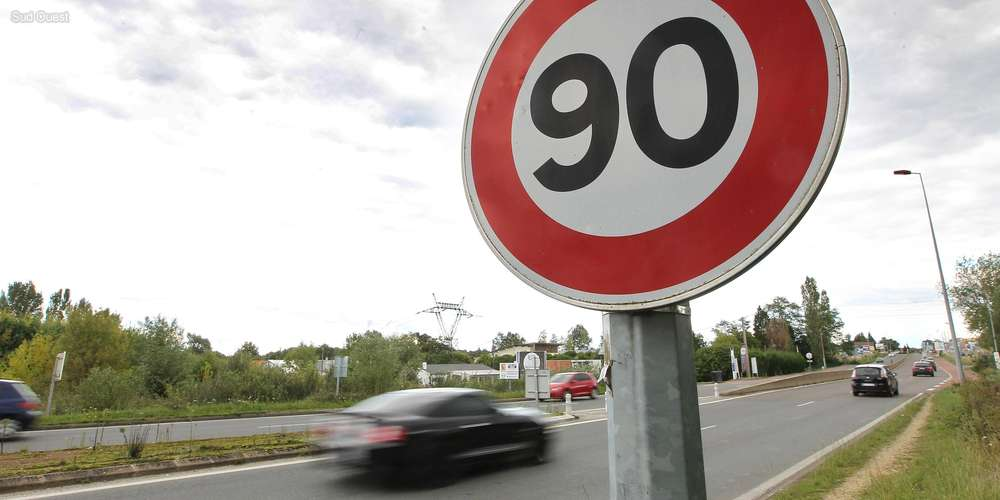Speed_limit_90km: (458, 1, 850, 309)
car: (849, 359, 905, 404)
